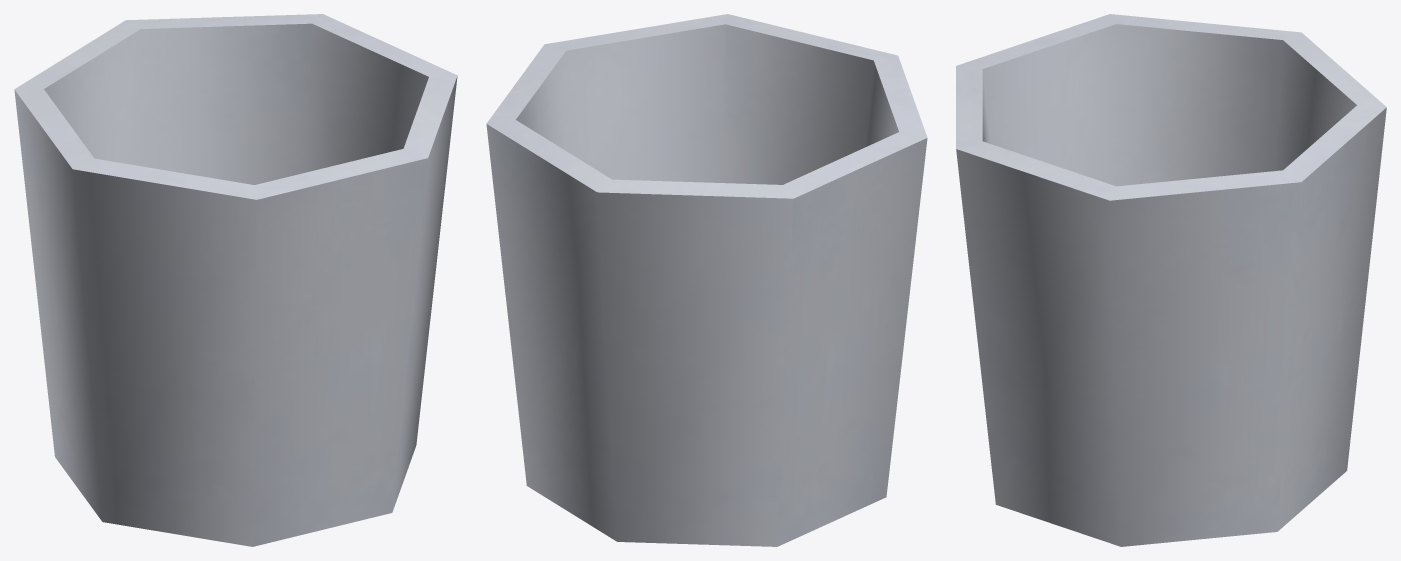
File: Vaso_02.glb
3 renders of one model, left to right at view 1: azimuth 30°, elevation 25°; view 2: azimuth 150°, elevation 25°; view 3: azimuth 270°, elevation 25°, orthographic.
Parts seen in each view (by area): view 1: Vaso_02; view 2: Vaso_02; view 3: Vaso_02.
Part boxes in pixels (x1=…): Vaso_02: x1=14, y1=14, x2=457, y2=546; Vaso_02: x1=486, y1=14, x2=927, y2=546; Vaso_02: x1=956, y1=14, x2=1386, y2=546.
Bounding box in the file's own units: 0.1417 × 0.1294 × 0.1382.
Materials: 1 (1 with a texture image).
